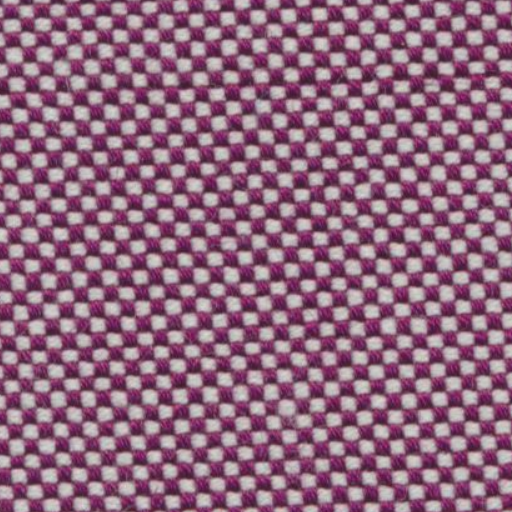TuoSha: (16, 44, 496, 122)
